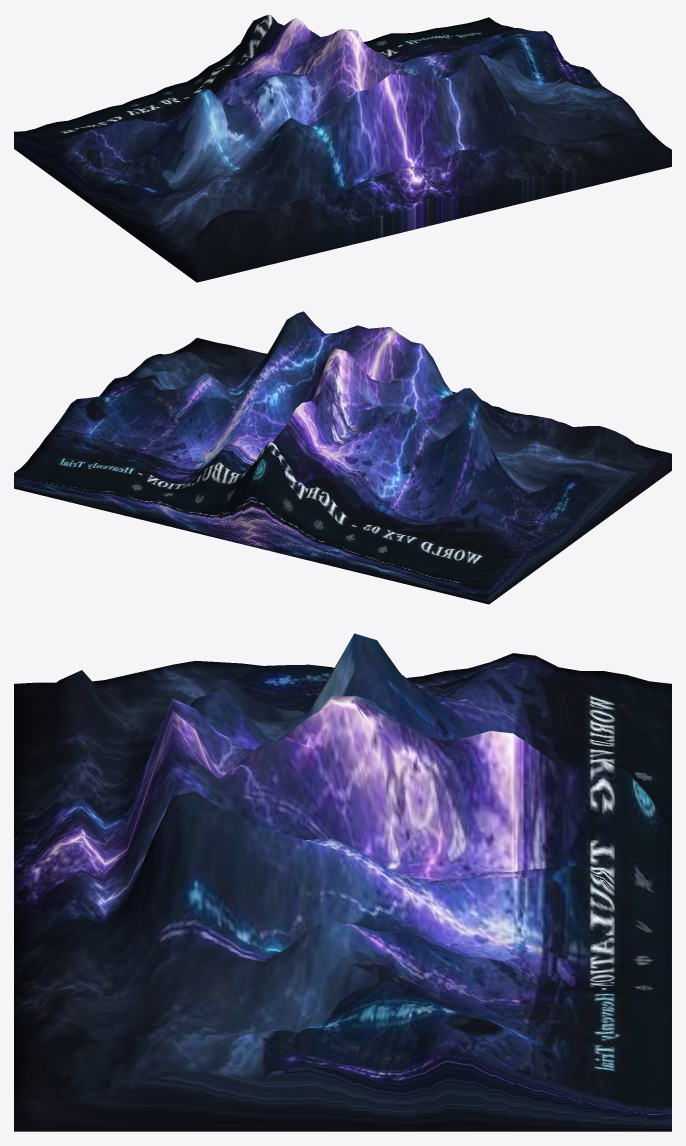
File: WORLD_VFX_05_Lightning_Tribulation.glb
3 renders of one model, top to bottom at view 1: azimuth 30°, elevation 25°; view 2: azimuth 150°, elevation 25°; view 3: azimuth 270°, elevation 25°, orthographic. The views are drawn at different scales.
Parts seen in each view (by area): view 1: WORLD_VFX_05_Lightning_Tribulation; view 2: WORLD_VFX_05_Lightning_Tribulation; view 3: WORLD_VFX_05_Lightning_Tribulation.
Boxes of the visible parts, x1=… form: WORLD_VFX_05_Lightning_Tribulation: x1=14, y1=14, x2=671, y2=282; WORLD_VFX_05_Lightning_Tribulation: x1=14, y1=311, x2=671, y2=604; WORLD_VFX_05_Lightning_Tribulation: x1=14, y1=633, x2=671, y2=1131.
Bounding box in the file's own units: 2 × 0.51 × 1.33.
Materials: 1 (1 with a texture image).
